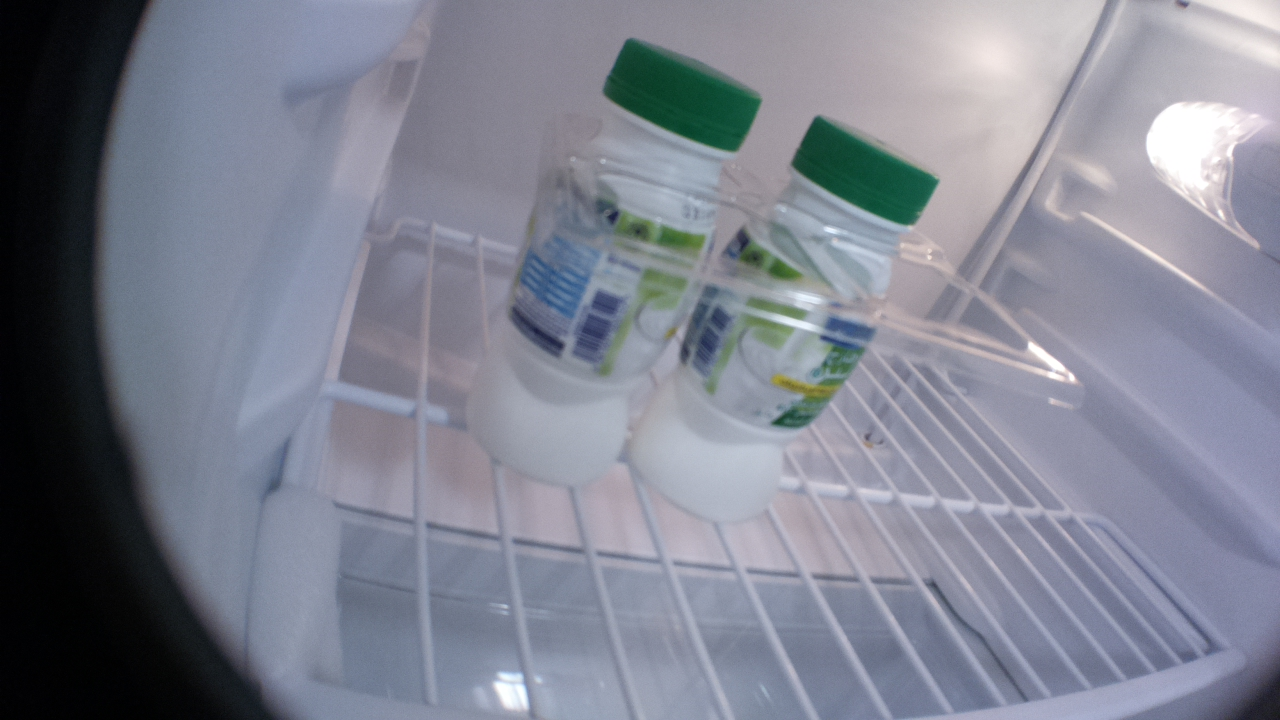laban: (467, 26, 770, 497), (628, 113, 944, 526)
